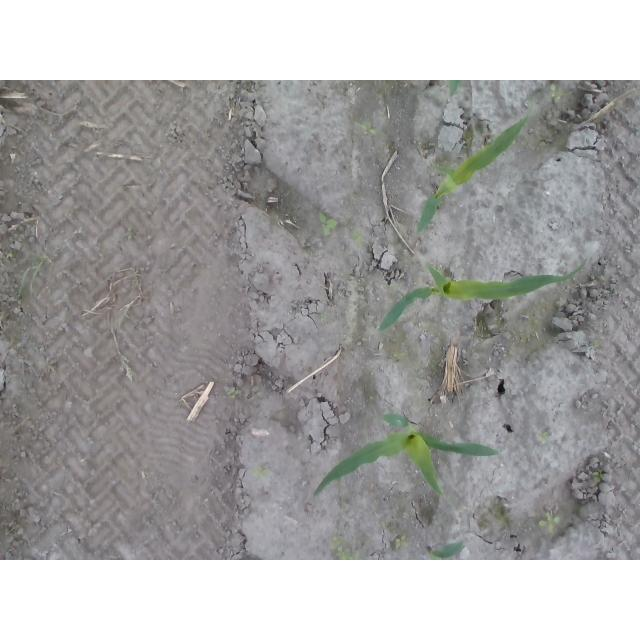Maize: (312, 411, 504, 503), (381, 261, 588, 332), (417, 118, 527, 238), (426, 541, 466, 560)
Weeds: (333, 538, 359, 560), (537, 511, 560, 533), (318, 212, 338, 237), (545, 85, 563, 104), (361, 124, 378, 136), (593, 470, 608, 483), (393, 536, 407, 549), (227, 386, 240, 399), (352, 231, 364, 241), (392, 351, 406, 359), (540, 432, 548, 445)
